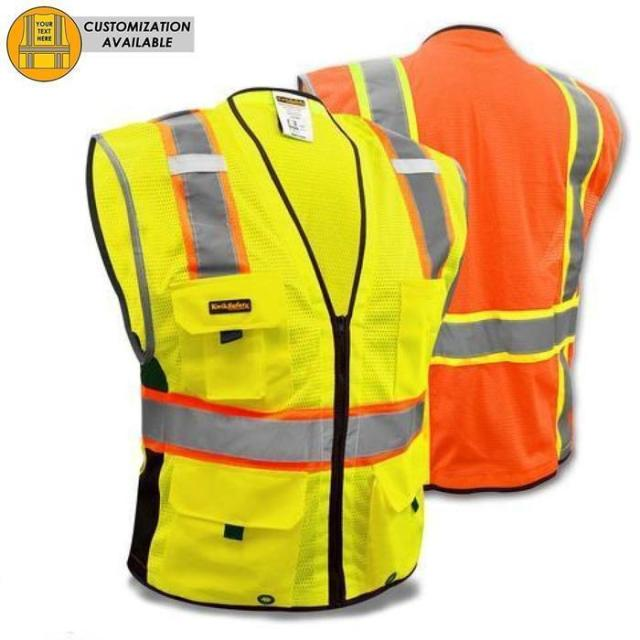Vest: (68, 87, 469, 613), (286, 28, 627, 494)
